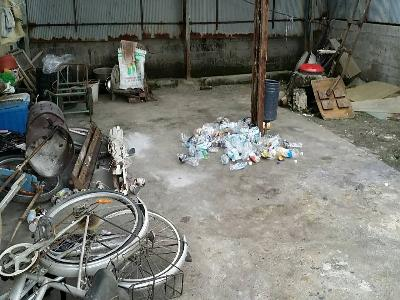bottle: (229, 161, 248, 172)
bowl: (1, 52, 19, 75), (91, 65, 115, 80)
bucket: (26, 100, 68, 140), (265, 78, 283, 121)
plastic_bag: (115, 45, 148, 90)
